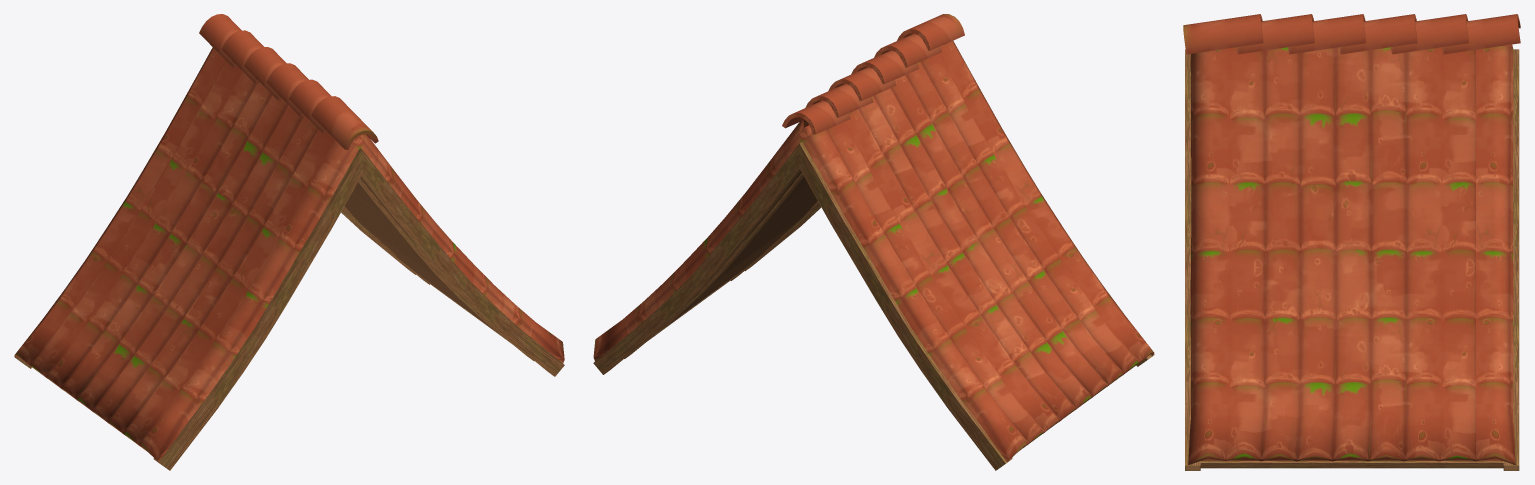
The model's file is Roof_RoundTiles_6x4.glb.
3 renders of one model, left to right at view 1: azimuth 30°, elevation 25°; view 2: azimuth 150°, elevation 25°; view 3: azimuth 270°, elevation 25°, orthographic. The views are drawn at different scales.
Visible parts, largest first — view 1: Roof_RoundTiles_6x4; view 2: Roof_RoundTiles_6x4; view 3: Roof_RoundTiles_6x4.
Boxes of the visible parts, left/top/right/bottom form: Roof_RoundTiles_6x4: left=14, top=14, right=564, bottom=470; Roof_RoundTiles_6x4: left=593, top=14, right=1154, bottom=470; Roof_RoundTiles_6x4: left=1183, top=14, right=1520, bottom=470.
Size of the model in its own units: 8.25 by 5.67 by 4.99.
Materials: 2 (2 with a texture image).
